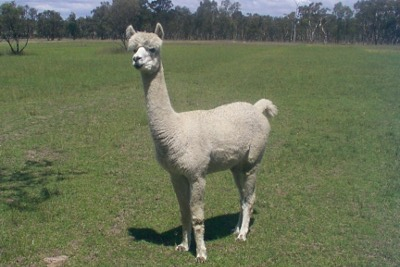alpaca: (125, 22, 279, 264)
